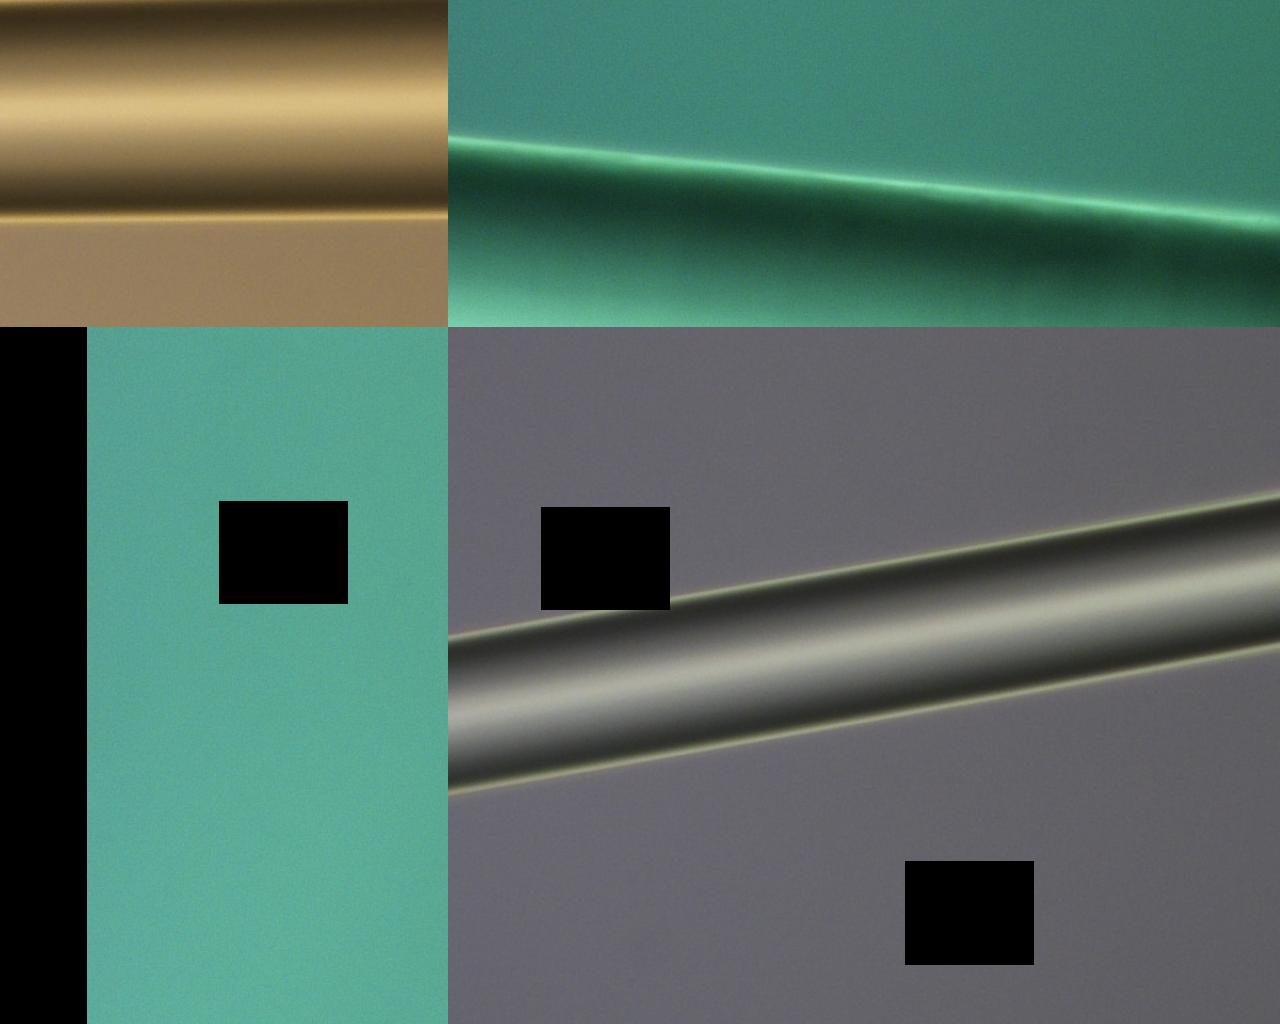fiber: (306, 0, 585, 655), (733, 0, 1007, 655), (633, 655, 1280, 802)
